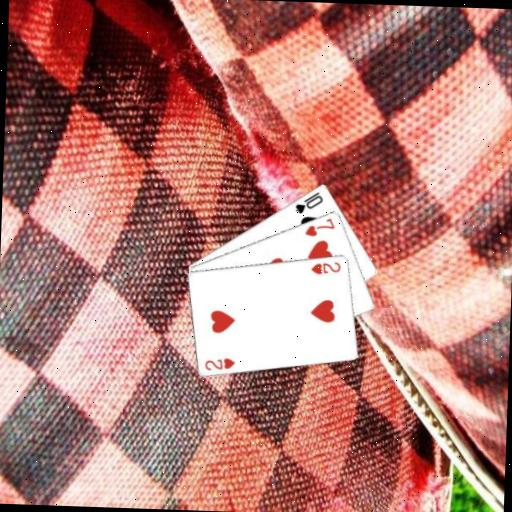10S: (292, 188, 325, 216)
2H: (307, 257, 342, 276), (202, 353, 237, 372)
7H: (302, 213, 337, 238)
